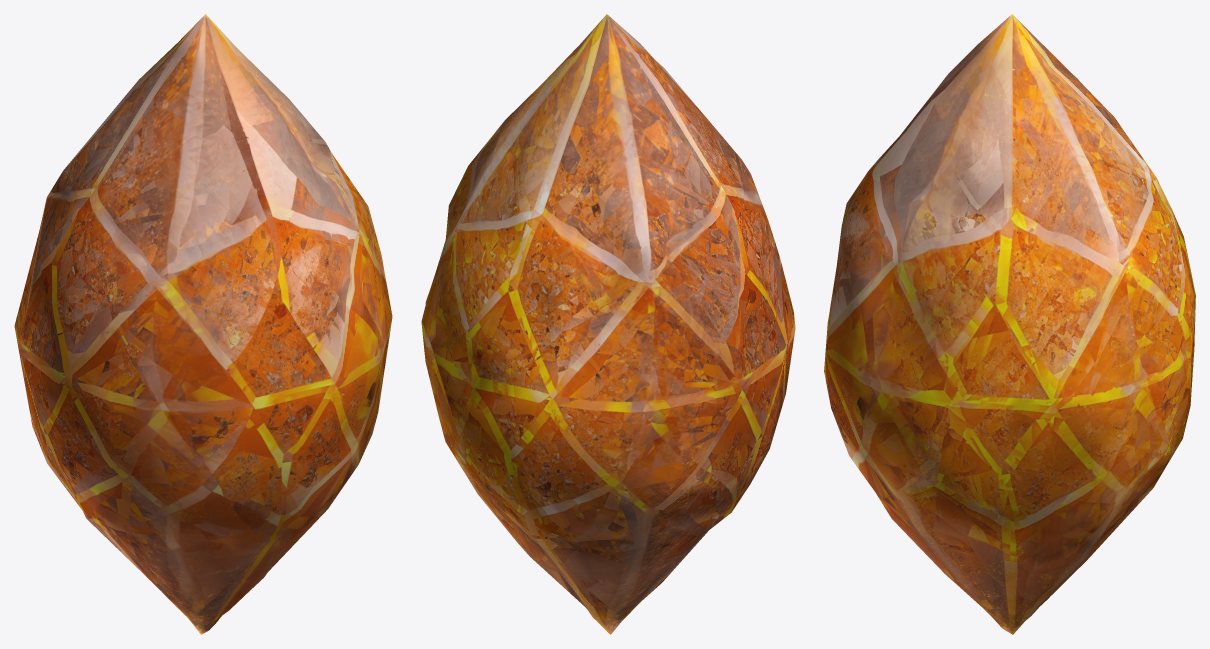
Rendered from orange_crystal_Gems_0817035858_refine.fbx.
The picture shows the model from 3 angles, left to right: view 1: azimuth 30°, elevation 25°; view 2: azimuth 150°, elevation 25°; view 3: azimuth 270°, elevation 25°; orthographic projection.
Visible parts, largest first — view 1: Mesh_0; view 2: Mesh_0; view 3: Mesh_0.
Part boxes in pixels (x1,y1,x2,y2): Mesh_0: (14,14,392,634); Mesh_0: (421,14,795,634); Mesh_0: (824,14,1195,634).
Bounding box in the file's own units: 65.29 × 120 × 64.9.
1 material, 1 textured.
